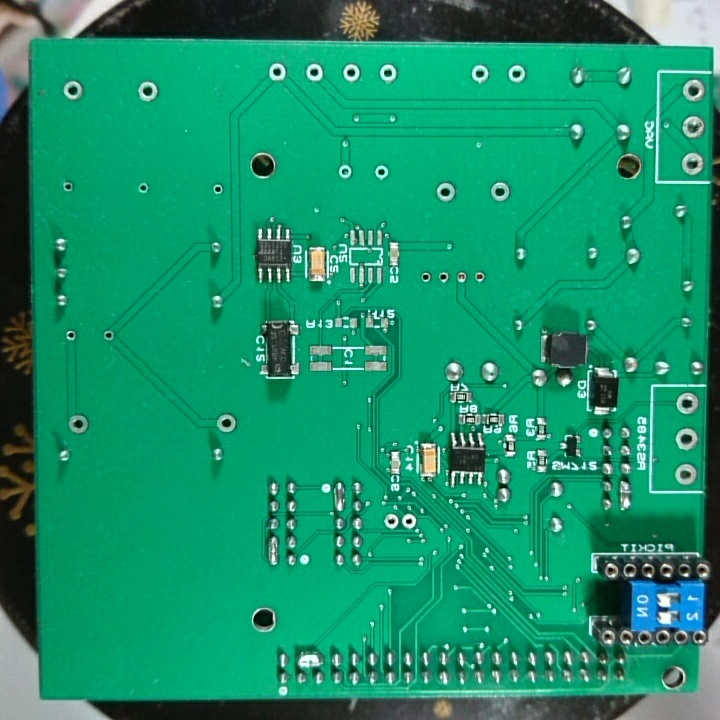F: (681, 112, 707, 143), (674, 389, 701, 418), (681, 76, 707, 106), (679, 148, 705, 178), (674, 424, 699, 455), (432, 179, 459, 207), (134, 78, 161, 105), (672, 459, 698, 487), (65, 411, 91, 437), (339, 62, 365, 87), (488, 179, 512, 205), (60, 79, 85, 103), (214, 411, 239, 435), (377, 62, 400, 87), (469, 63, 491, 89), (505, 63, 528, 87), (266, 61, 290, 84), (303, 62, 326, 85), (334, 161, 354, 184), (372, 161, 392, 183), (471, 268, 489, 289), (382, 511, 400, 532), (401, 510, 418, 532), (62, 327, 81, 346), (454, 268, 469, 289), (134, 179, 151, 197), (100, 327, 117, 345), (209, 180, 225, 199), (437, 269, 451, 289), (59, 178, 75, 195), (419, 268, 433, 287)
P: (293, 647, 325, 670), (616, 476, 634, 512), (264, 532, 280, 569), (331, 478, 348, 512)
